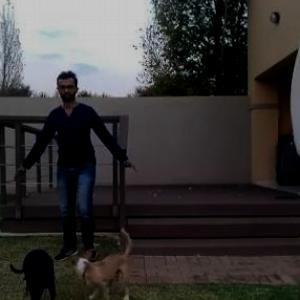land: (21, 71, 137, 273)
